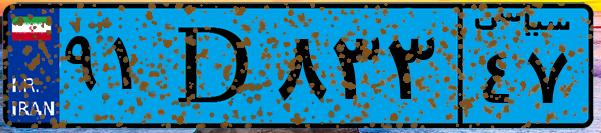1: (110, 28, 158, 98)
3: (385, 28, 445, 110), (330, 28, 385, 110)
4: (475, 38, 525, 113)
7: (525, 38, 570, 115)
8: (270, 28, 330, 110)
9: (57, 26, 110, 100)
D: (158, 12, 270, 120)
